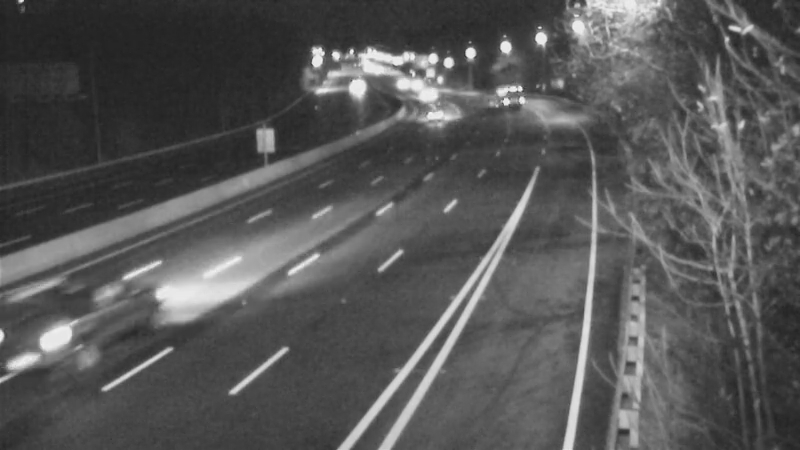vehicle: (4, 268, 114, 378), (377, 59, 427, 109), (391, 59, 441, 109), (487, 70, 537, 120), (402, 67, 452, 117), (409, 92, 459, 142), (331, 67, 381, 117)
